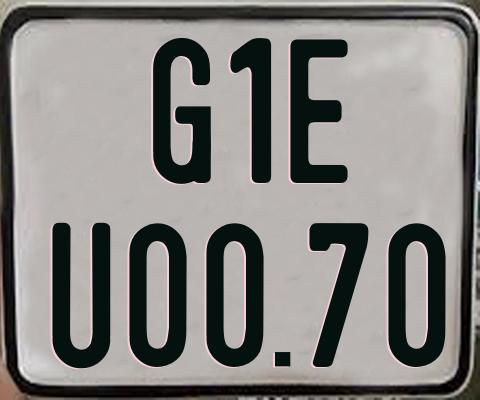0: (204, 222, 268, 368), (127, 221, 190, 365), (385, 222, 445, 372)
1: (230, 36, 272, 181)
7: (306, 223, 370, 373)
E: (288, 36, 349, 185)
G: (150, 38, 208, 184)
U: (49, 220, 110, 367)
